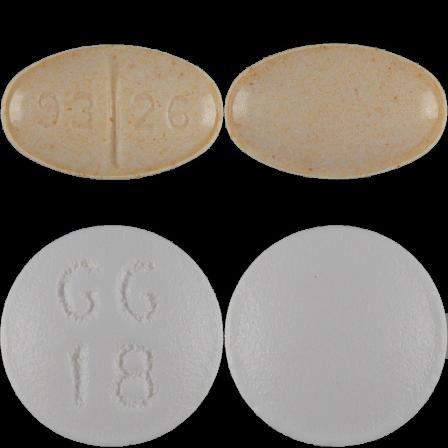53808-0663: (0, 0, 224, 224)
